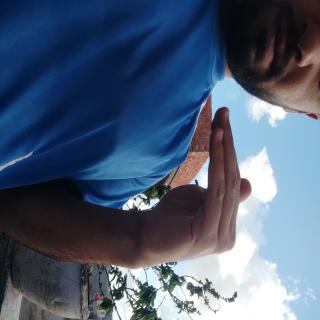KHAA: (74, 86, 205, 265)
